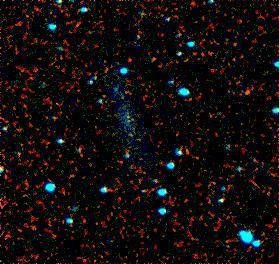star: (234, 82, 264, 112)
